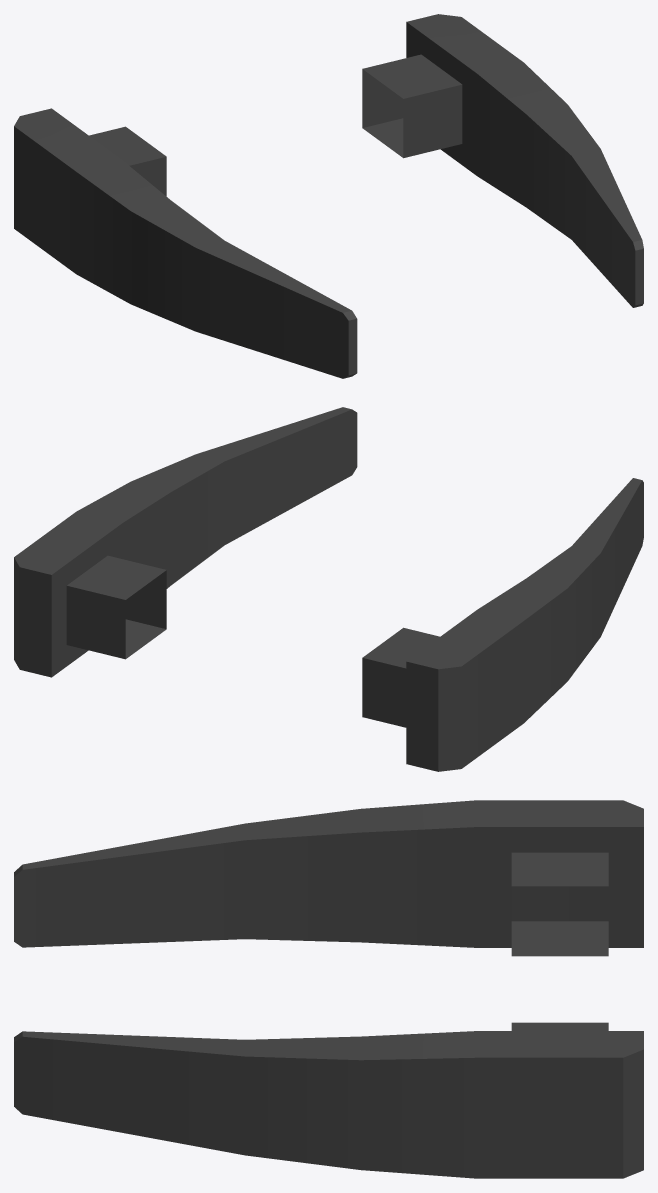
The model's file is Ship_handle.fbx.
3 renders of one model, top to bottom at view 1: azimuth 30°, elevation 25°; view 2: azimuth 150°, elevation 25°; view 3: azimuth 270°, elevation 25°, orthographic. The views are drawn at different scales.
Visible parts, largest first — view 1: Cube.950, Cube.432; view 2: Cube.432, Cube.950; view 3: Cube.432, Cube.950.
Part boxes in pixels (x1,y1,x2,y2): Cube.950: (14,108,357,378); Cube.432: (362,14,643,307); Cube.432: (14,407,357,677); Cube.950: (362,478,643,771); Cube.432: (14,1022,643,1178); Cube.950: (14,800,643,956).
Size of the model in its own units: 31.28 by 6.85 by 32.35.
